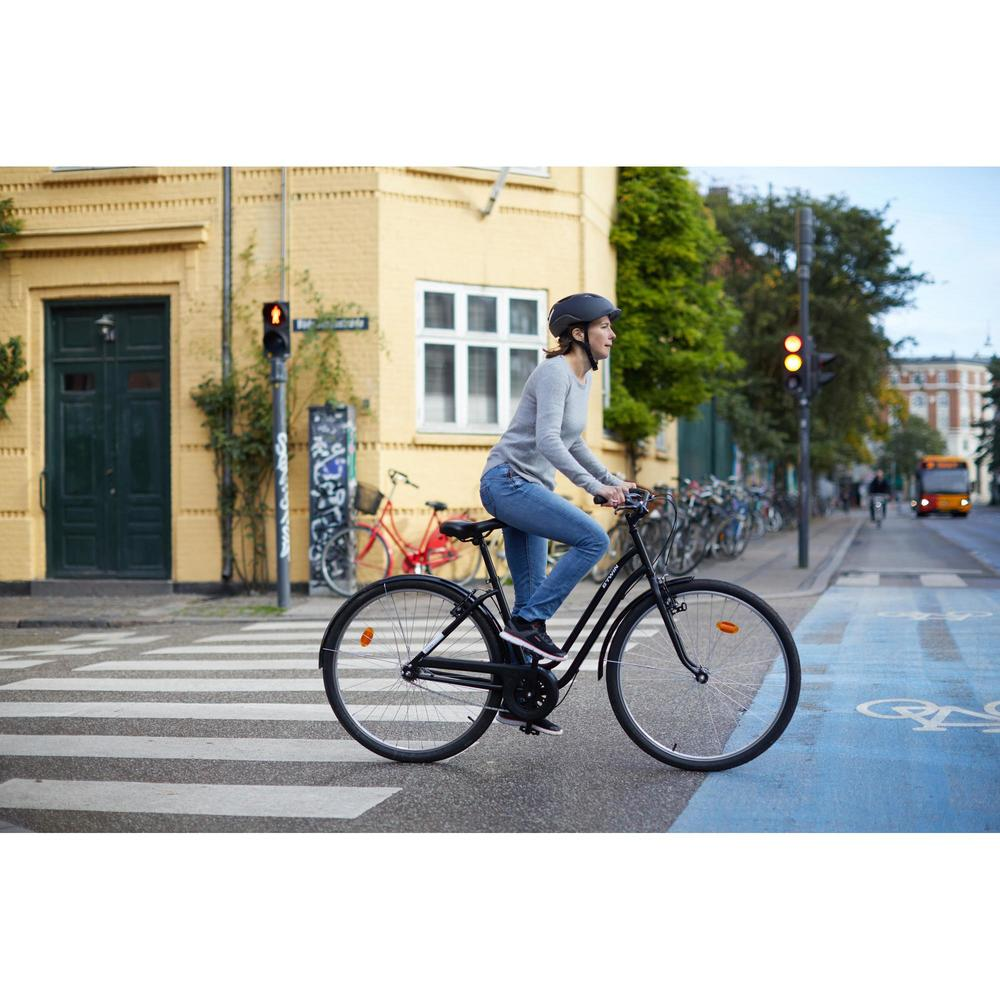UrbanBike: (309, 460, 799, 782)
